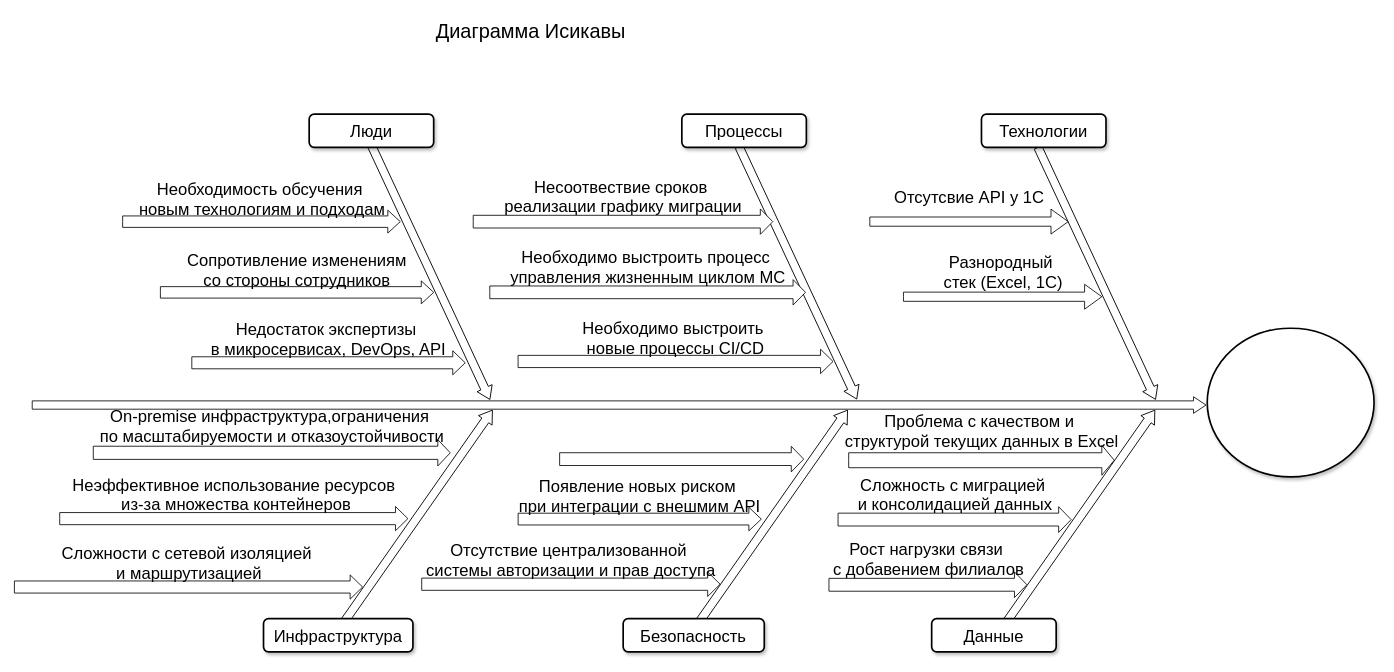
This 1394x672 diagram has some shape labels left out. The centre of each missing label's shape, as x and y in pixels:
Необходимость строго соблюдения 152-ФЗ: (681,459)
Переход на микросервисную архитектуру: (1291,403)
